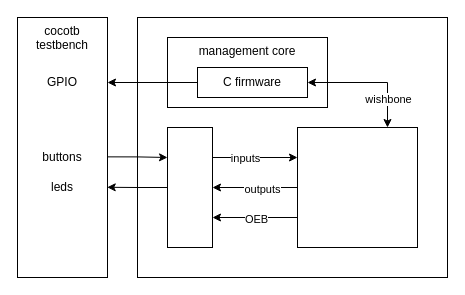
This 465x295 diagram has some shape labels left out. Each missing label, with the centre of its shape:
"GPIOs" goes at (189,187).
"user project" goes at (357,187).
